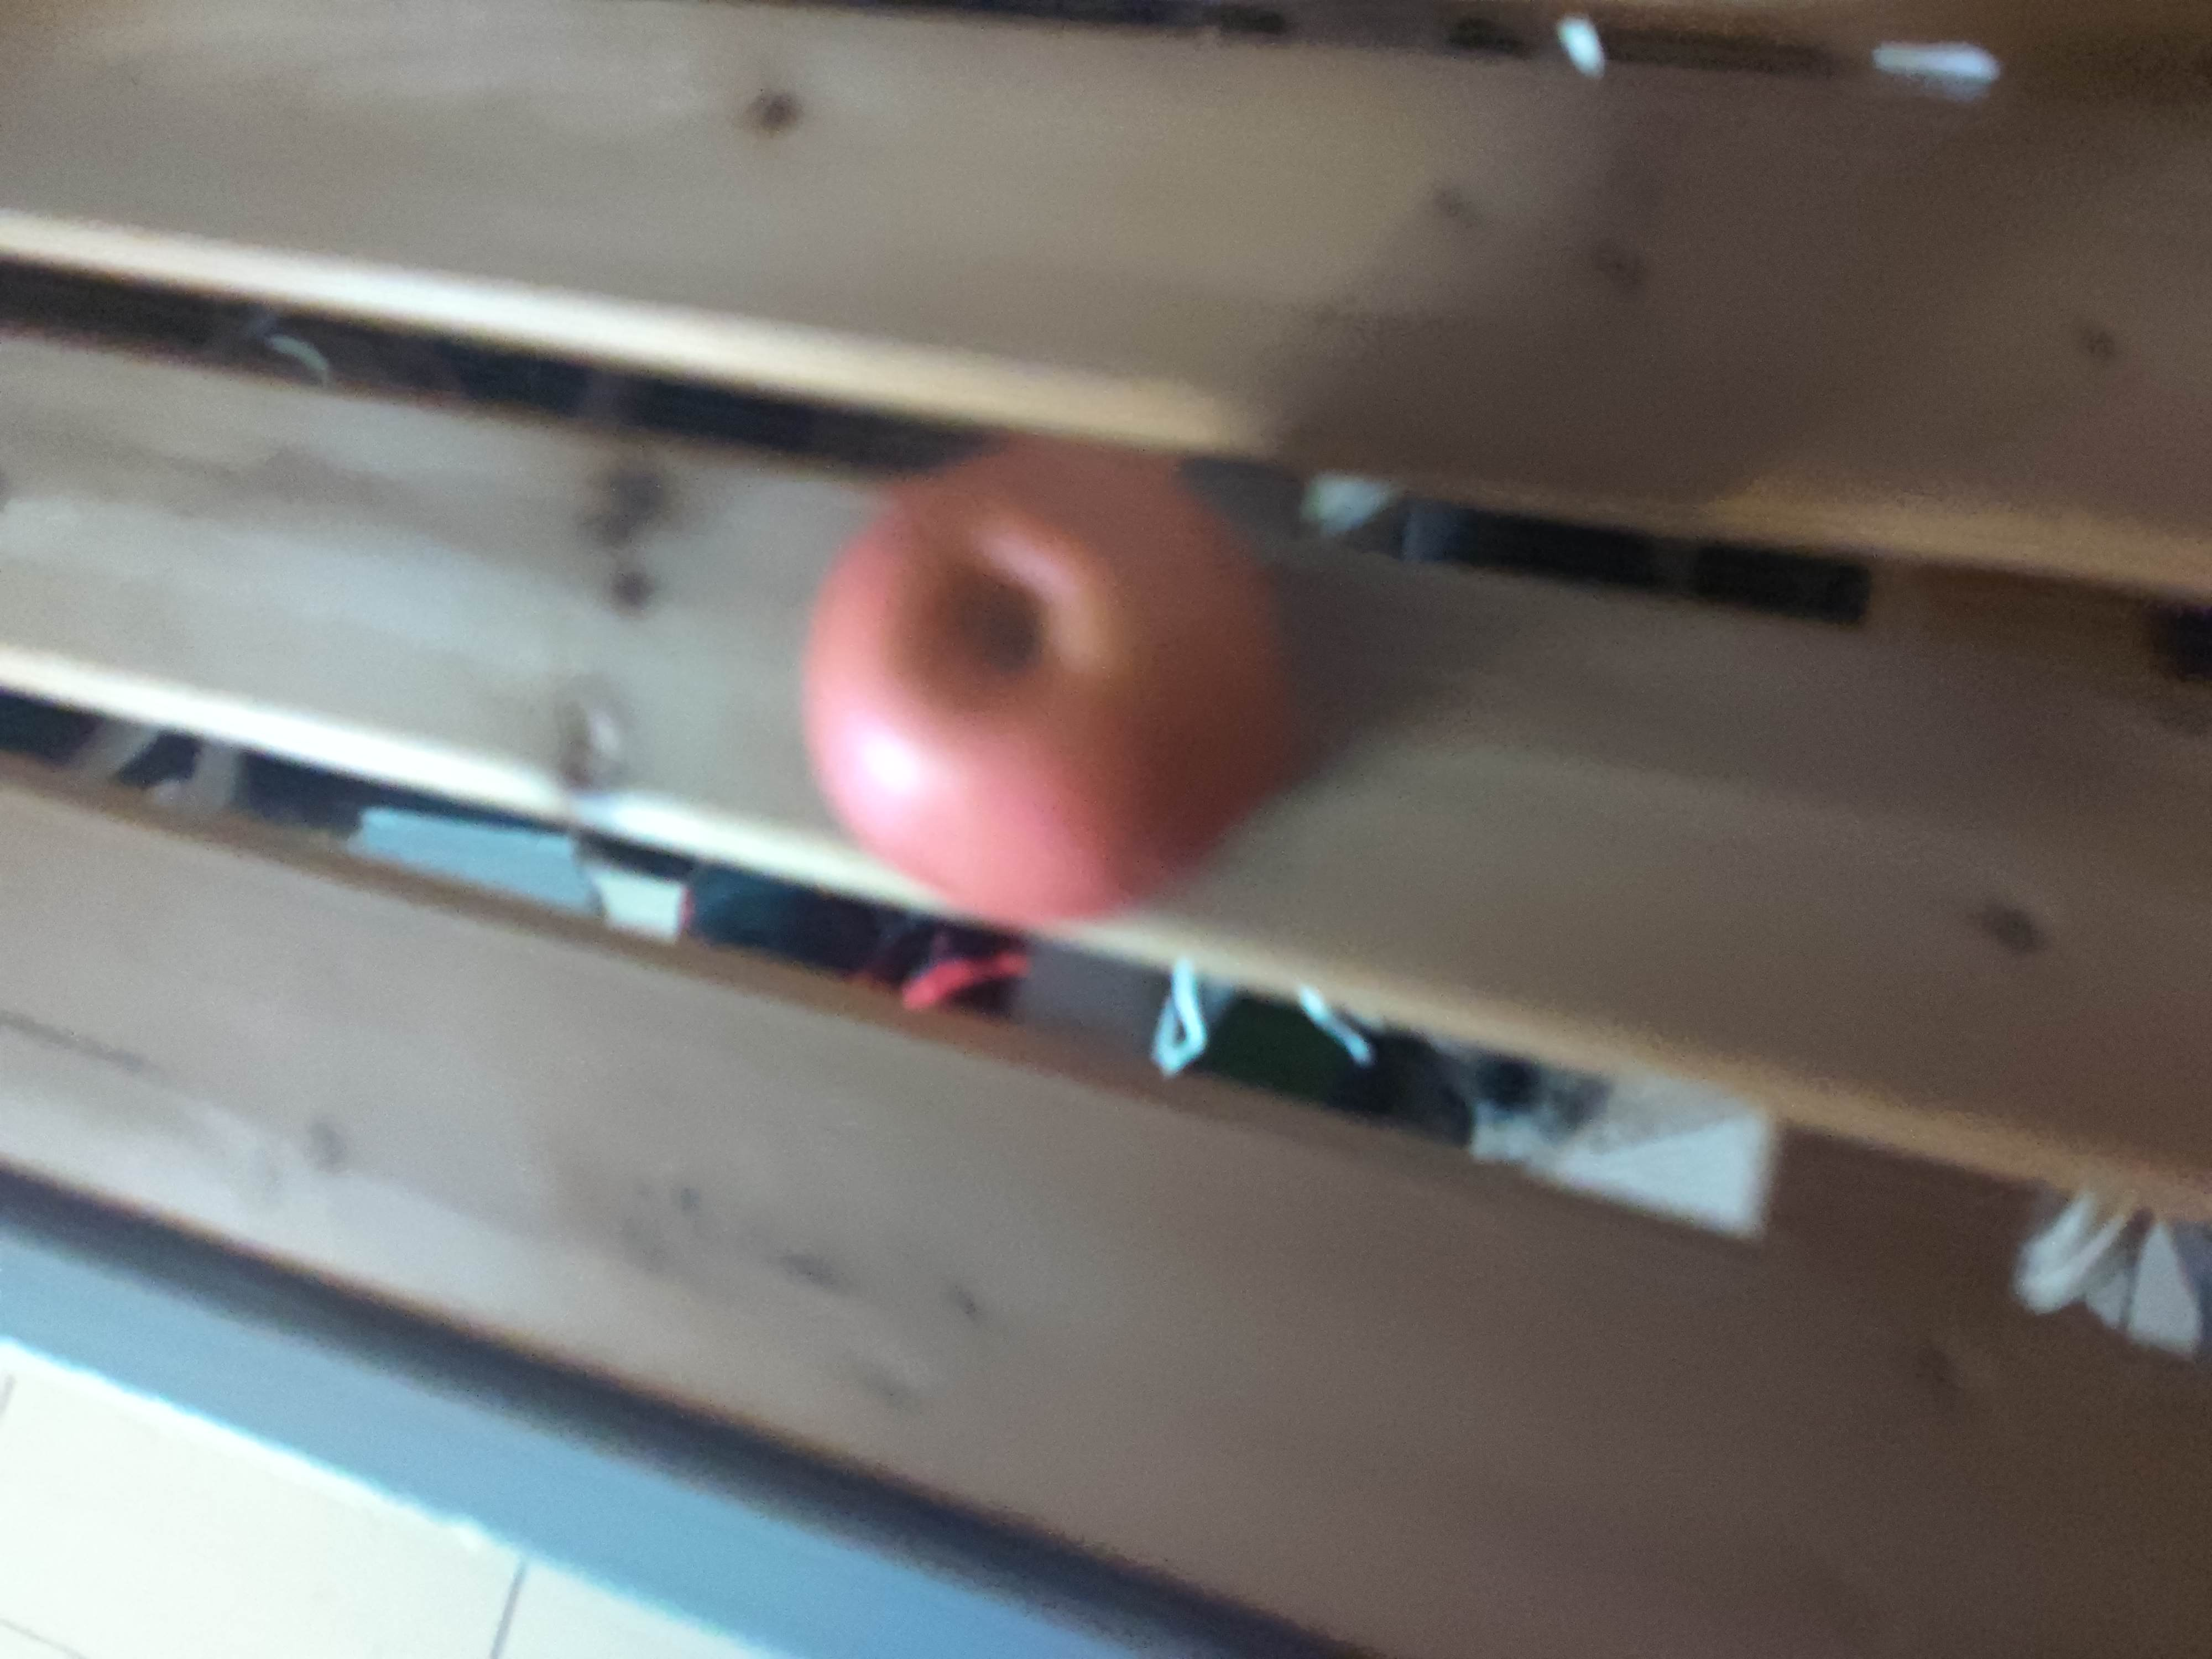apple: (798, 444, 1289, 920)
